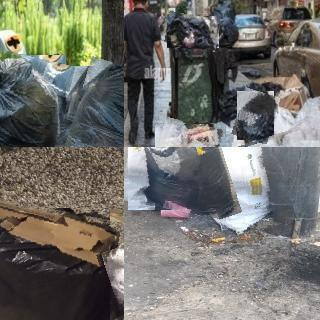Garbage: (0, 202, 115, 320), (201, 147, 290, 237), (124, 147, 237, 214), (0, 50, 70, 147), (55, 61, 124, 147), (7, 114, 117, 147), (234, 89, 277, 142), (151, 120, 230, 147), (166, 14, 220, 50), (100, 239, 124, 317)
